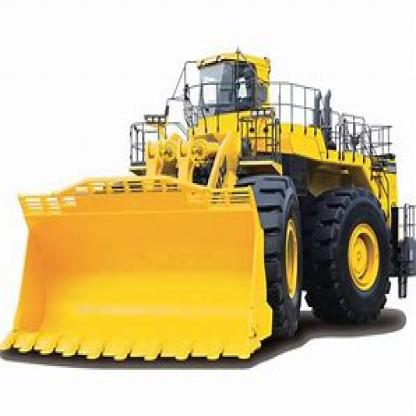bull_dozer/loader/grader: (0, 46, 415, 364)
